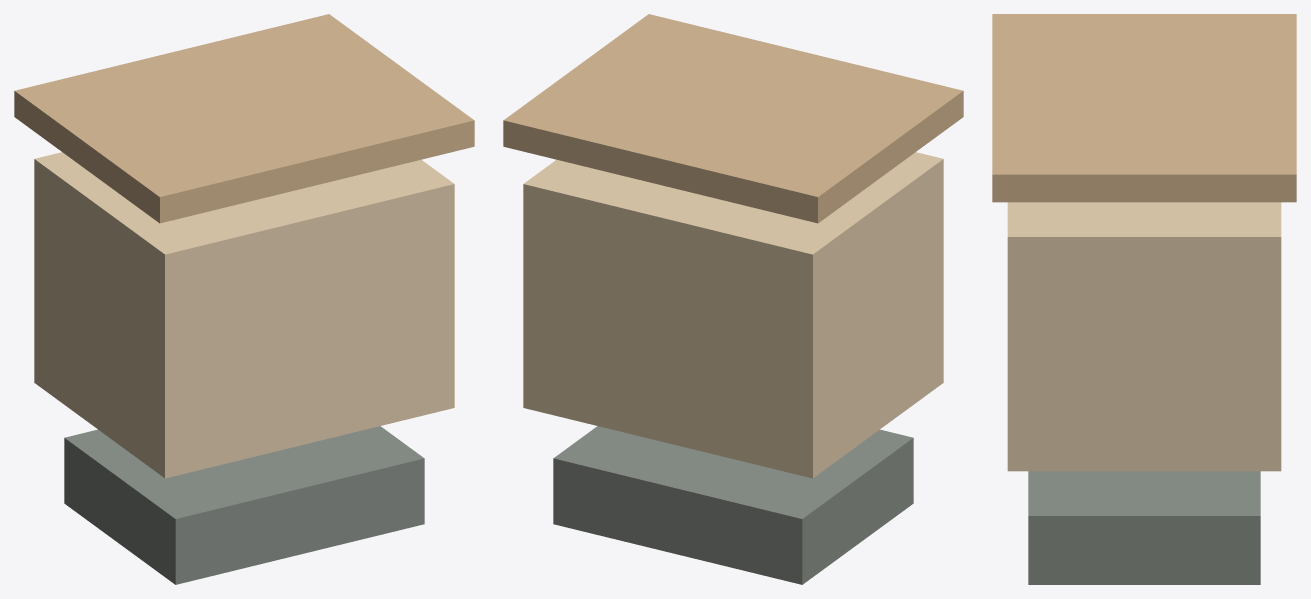
Rendered from bedside.glb.
3 views of the same model, side by side, from view 1: azimuth 30°, elevation 25°; view 2: azimuth 150°, elevation 25°; view 3: azimuth 270°, elevation 25° (orthographic). The views are drawn at different scales.
Parts seen in each view (by area): view 1: bedside_oak_light_0, bedside_oak_1, bedside_dark_2; view 2: bedside_oak_light_0, bedside_oak_1, bedside_dark_2; view 3: bedside_oak_light_0, bedside_oak_1, bedside_dark_2.
Boxes of the visible parts, <box> form: bedside_oak_light_0: <box>34,152,454,478</box>; bedside_oak_1: <box>14,14,474,223</box>; bedside_dark_2: <box>64,426,424,584</box>; bedside_oak_light_0: <box>523,152,943,478</box>; bedside_oak_1: <box>503,14,963,223</box>; bedside_dark_2: <box>553,426,913,584</box>; bedside_oak_light_0: <box>1007,202,1281,471</box>; bedside_oak_1: <box>992,14,1296,202</box>; bedside_dark_2: <box>1028,471,1260,584</box>.
Bounding box in the file's own units: 0.5 × 0.62 × 0.4.
